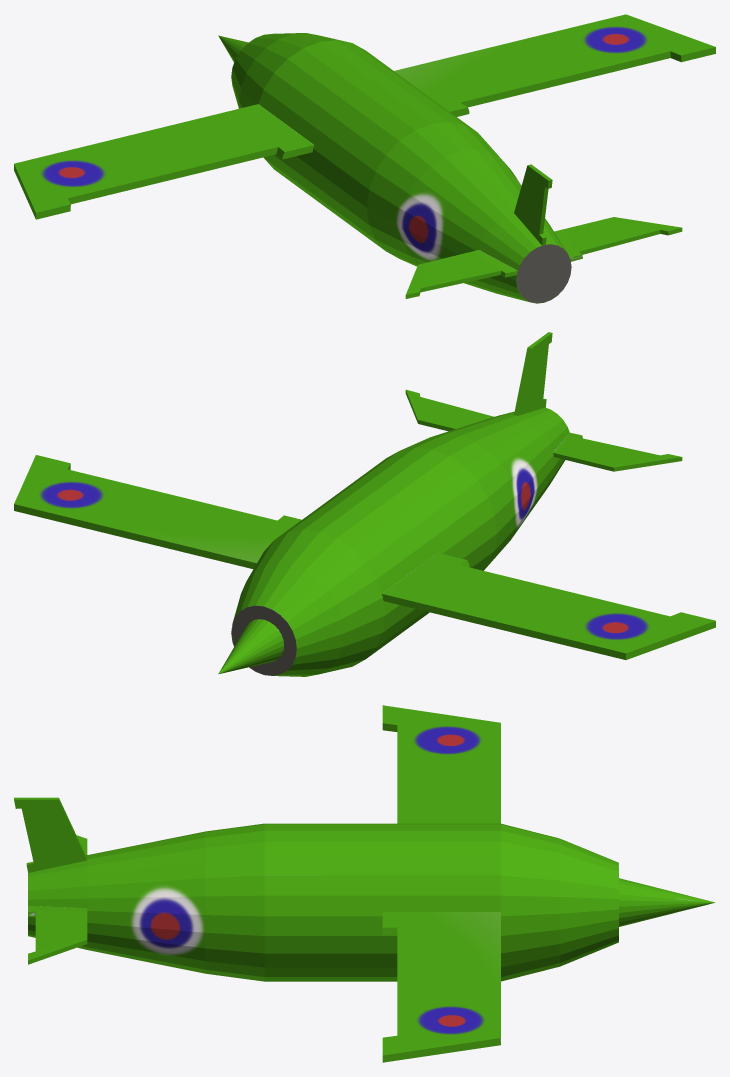
The model's file is airplane_body.obj.
The picture shows the model from 3 angles, top to bottom: view 1: azimuth 30°, elevation 25°; view 2: azimuth 150°, elevation 25°; view 3: azimuth 270°, elevation 25°; orthographic projection. The views are drawn at different scales.
Visible parts, largest first — view 1: Plane_body; view 2: Plane_body; view 3: Plane_body.
Part boxes in pixels (box(x1,y1,x2,y2)): Plane_body: box(14, 14, 715, 303); Plane_body: box(14, 332, 715, 676); Plane_body: box(14, 705, 715, 1062).
Bounding box in the file's own units: 10.45 × 2.45 × 8.85.
1 material, 1 textured.
